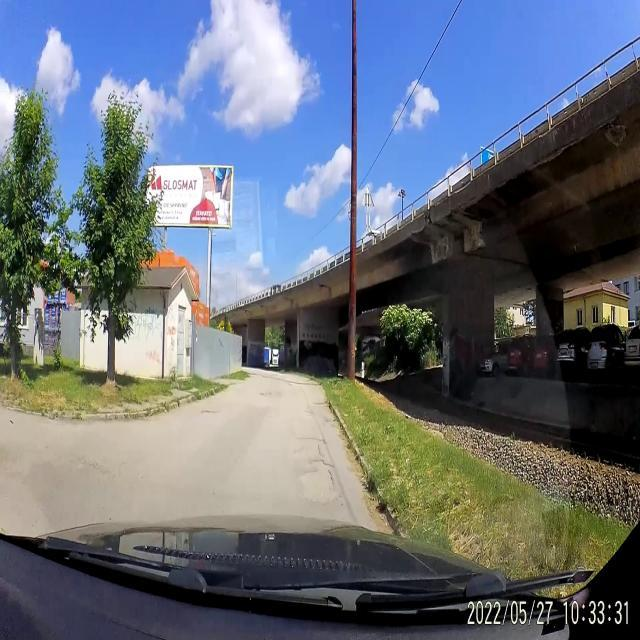Pothole: (306, 458, 338, 499), (198, 408, 220, 418)
